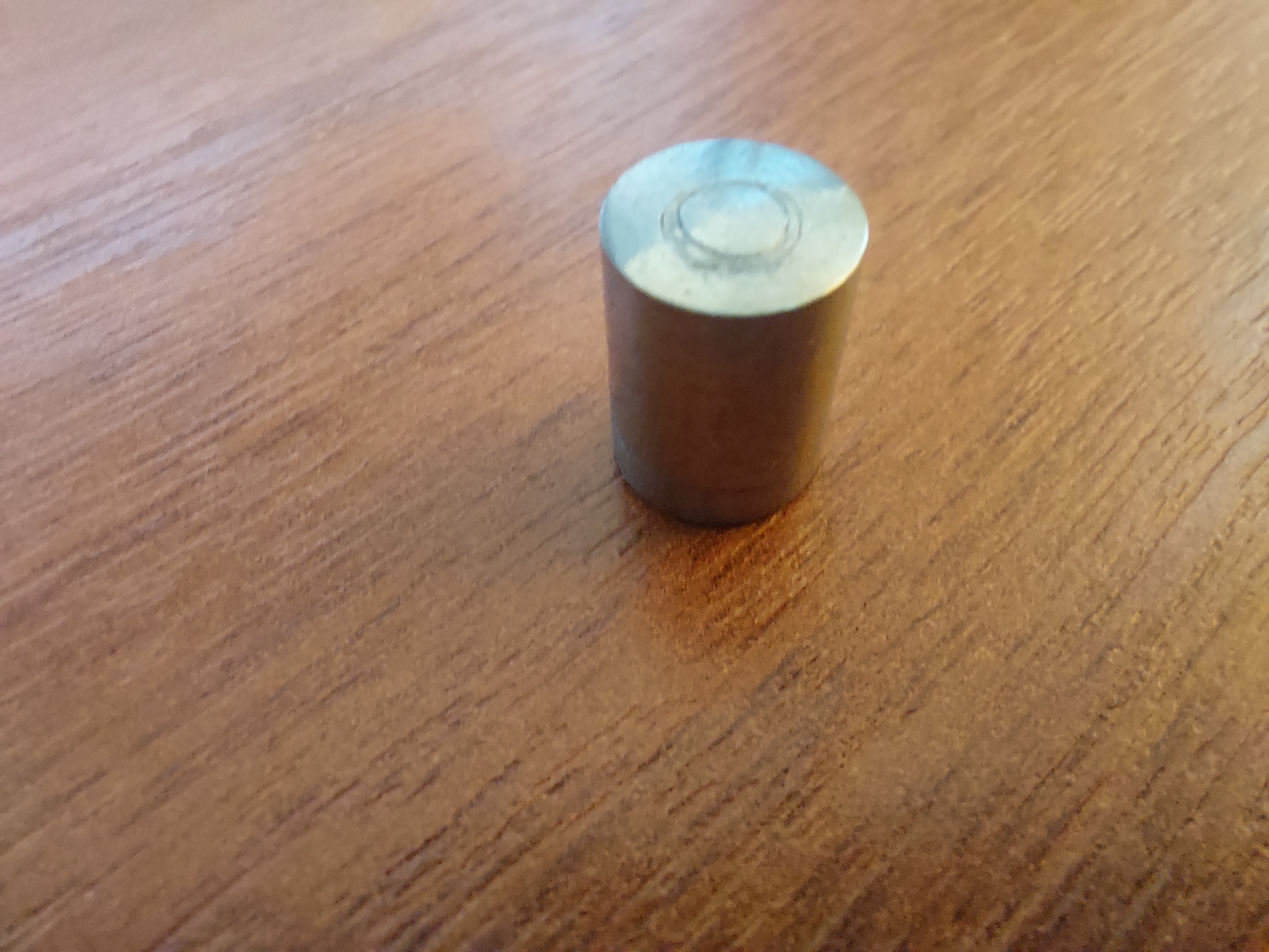tablet: (580, 120, 888, 553)
